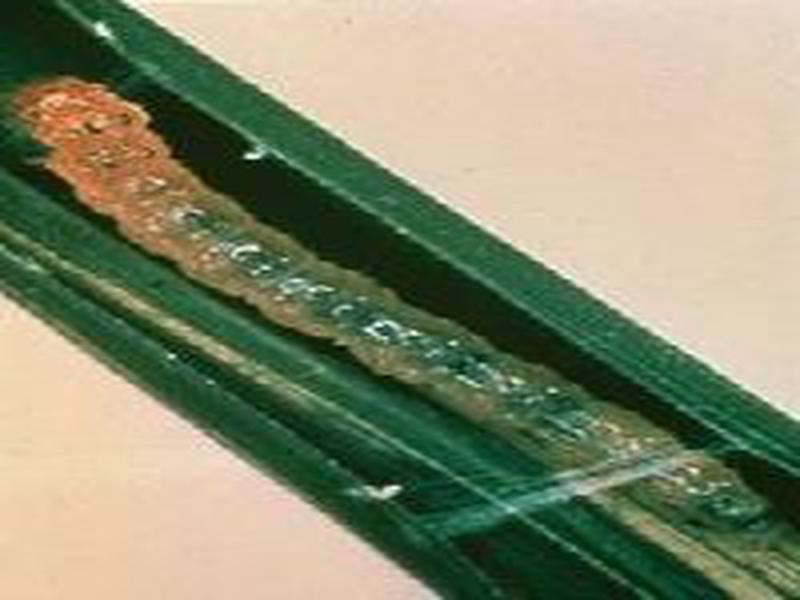Leaf_folder: (26, 70, 777, 536)
